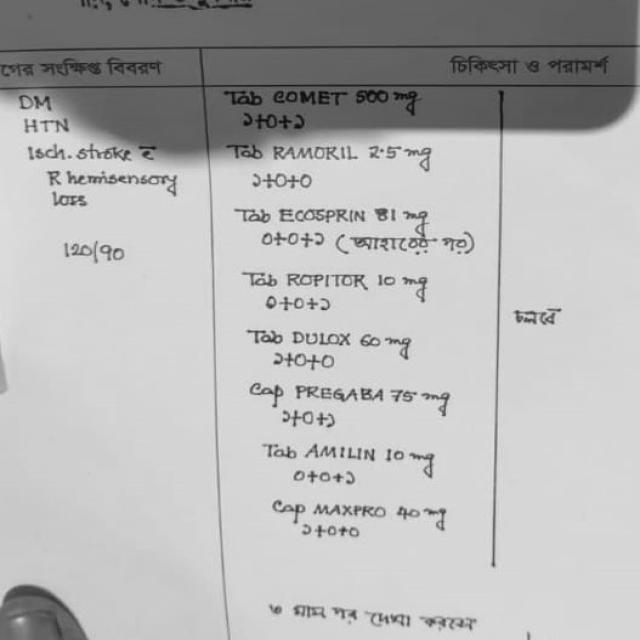medicine: (266, 138, 364, 168), (291, 378, 390, 407), (280, 266, 376, 295), (272, 202, 370, 230), (266, 85, 352, 112), (299, 438, 381, 466), (307, 498, 392, 524), (288, 324, 356, 350)
